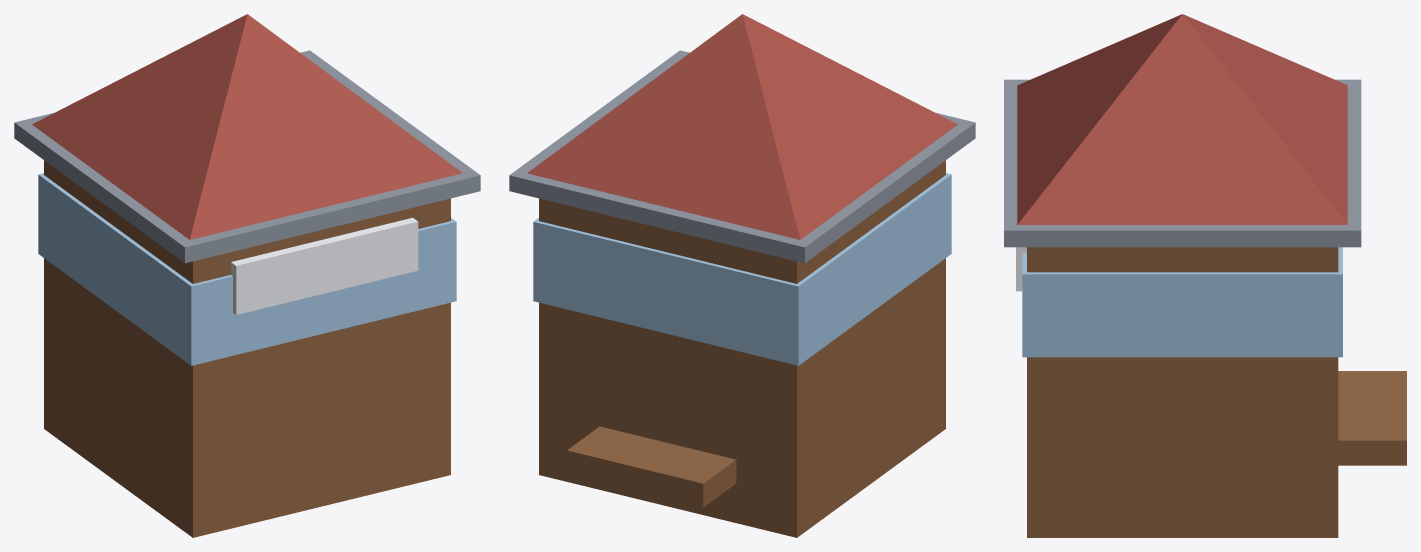
The model's file is kiosk.fbx.
3 views of the same model, side by side, from view 1: azimuth 30°, elevation 25°; view 2: azimuth 150°, elevation 25°; view 3: azimuth 270°, elevation 25° (orthographic). The views are drawn at different scales.
Visible parts, largest first — view 1: kiosk; view 2: kiosk; view 3: kiosk.
Part boxes in pixels (x1,y1,x2,y2): kiosk: [14, 14, 480, 537]; kiosk: [509, 14, 975, 537]; kiosk: [1004, 14, 1406, 537].
Size of the model in its own units: 848 by 1200 by 957.
